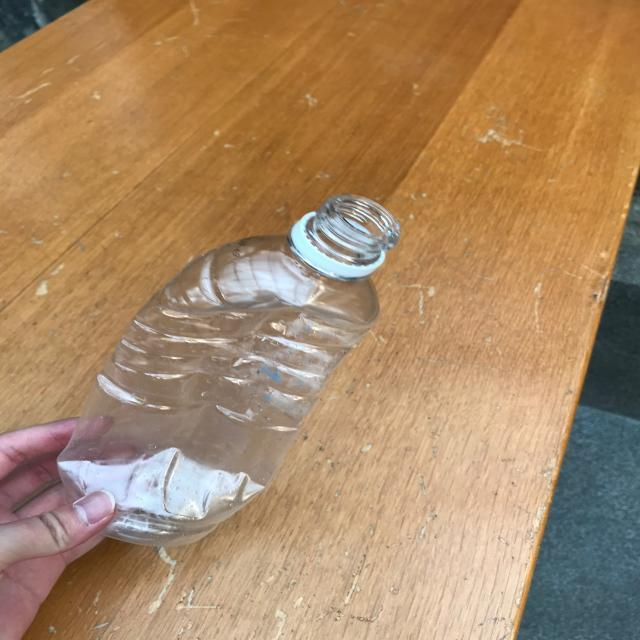plastic_bottle: (56, 193, 401, 547)
